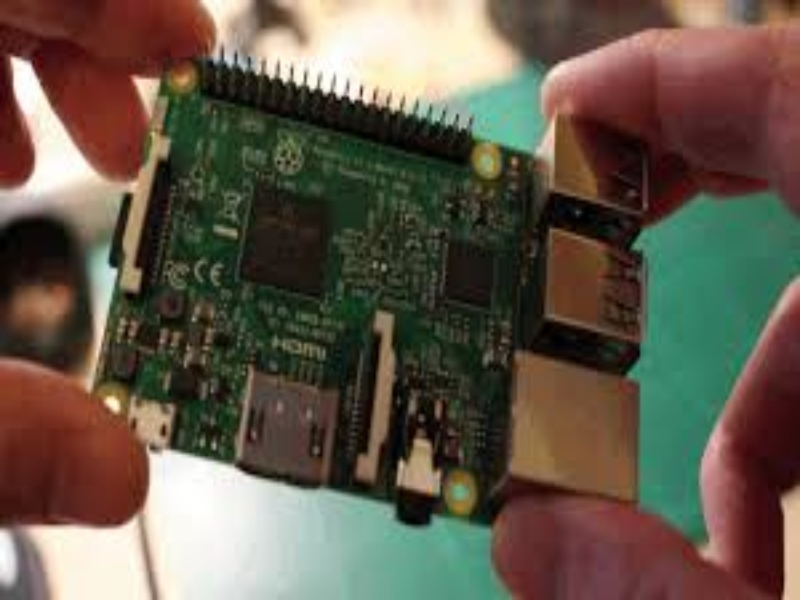raspberrypi: (100, 38, 658, 528)
